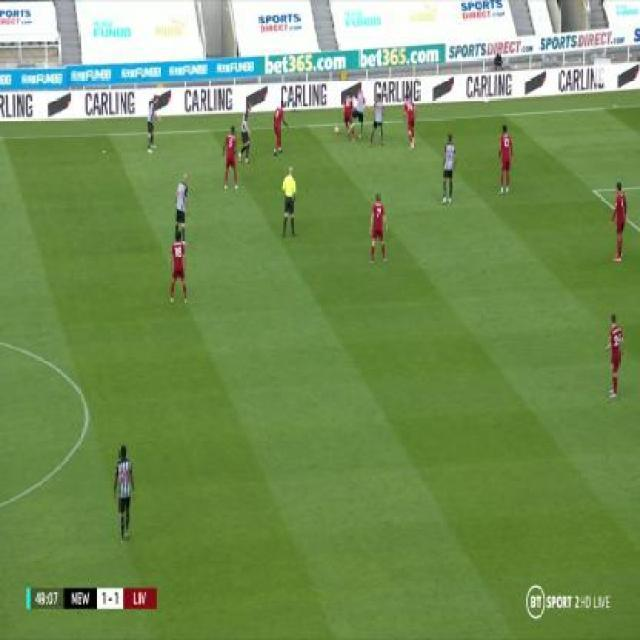ball: (334, 124, 340, 135)
player: (112, 443, 138, 546), (604, 312, 627, 406), (167, 229, 190, 306), (368, 192, 390, 266), (610, 180, 629, 265), (439, 131, 459, 207), (145, 88, 168, 154), (172, 171, 191, 247), (495, 123, 514, 197), (280, 163, 297, 242), (222, 126, 241, 192), (238, 100, 254, 166), (271, 95, 288, 157), (369, 89, 386, 149), (352, 87, 369, 143), (403, 92, 419, 149), (342, 93, 353, 141)
